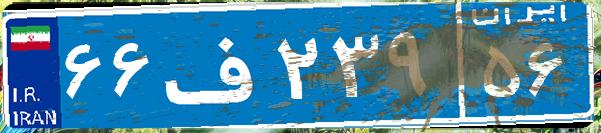2: (273, 28, 330, 110)
3: (330, 28, 385, 110)
5: (475, 38, 525, 113)
6: (57, 26, 110, 107), (110, 28, 158, 105), (525, 38, 570, 115)
9: (385, 28, 445, 110)
ف: (158, 15, 273, 115)
